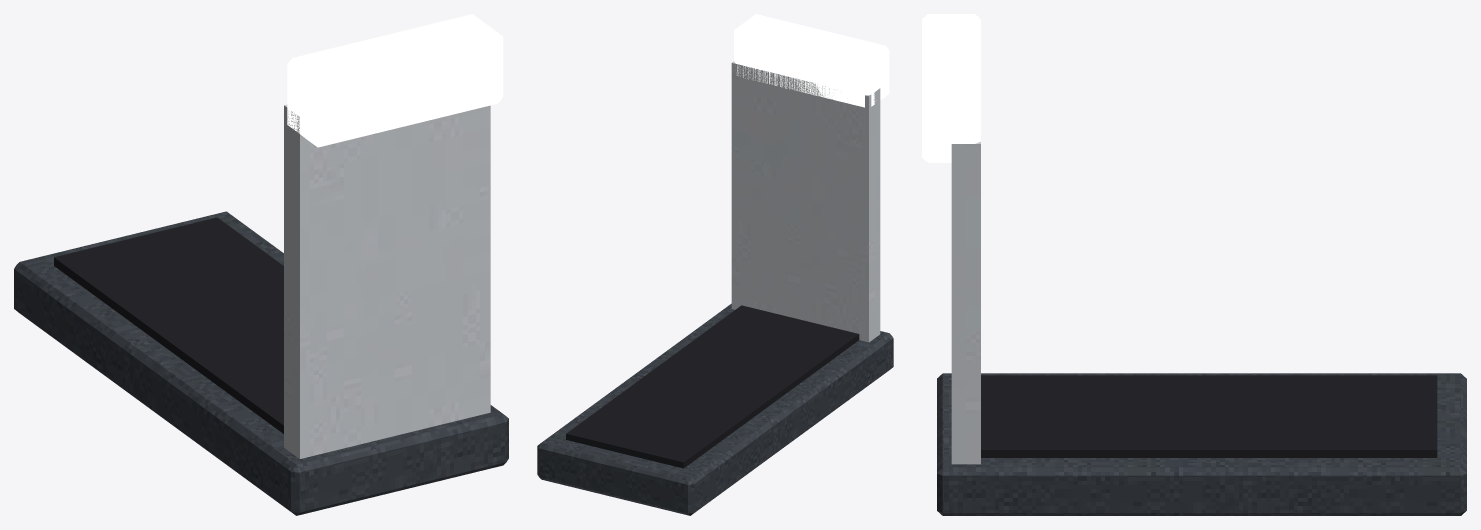
3 renders of one model, left to right at view 1: azimuth 30°, elevation 25°; view 2: azimuth 150°, elevation 25°; view 3: azimuth 270°, elevation 25°, orthographic. The views are drawn at different scales.
Visible parts, largest first — view 1: Decor_treadmill; view 2: Decor_treadmill; view 3: Decor_treadmill.
Boxes of the visible parts, <box> form: Decor_treadmill: <box>14,14,508,515</box>; Decor_treadmill: <box>537,14,893,515</box>; Decor_treadmill: <box>922,14,1466,515</box>.
Bounding box in the file's own units: 0.8 × 1.55 × 1.85.
Materials: 4 (3 with a texture image).
